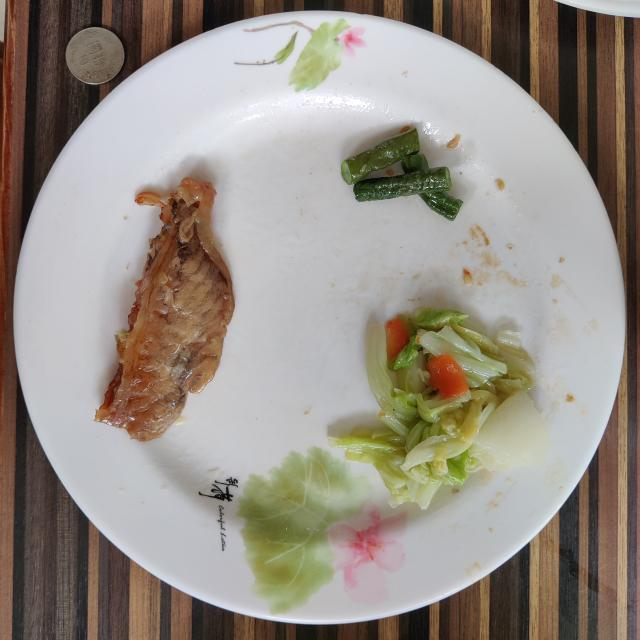Kabayaki sea bream fillet: (95, 178, 235, 441)
cabbage: (330, 308, 549, 510)
coin: (65, 28, 125, 85)
